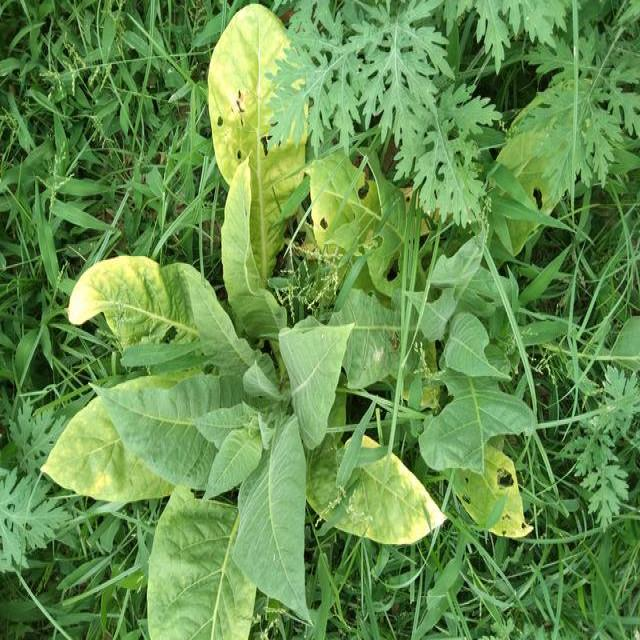crop: (43, 176, 470, 640)
